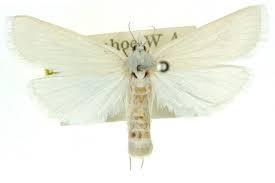Insects: (2, 2, 272, 175)
